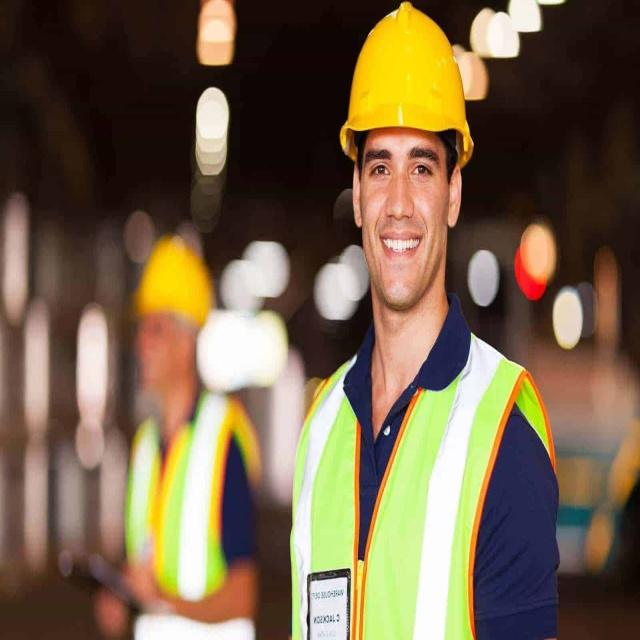helmet: (337, 1, 473, 396)
vest: (282, 459, 566, 640)
